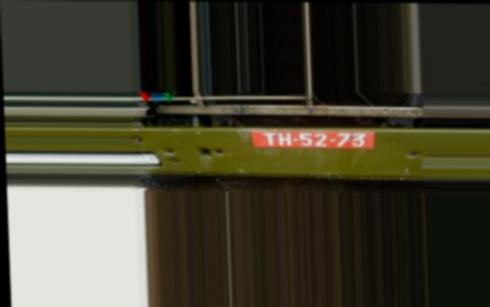License_Plate: (250, 130, 379, 155)
